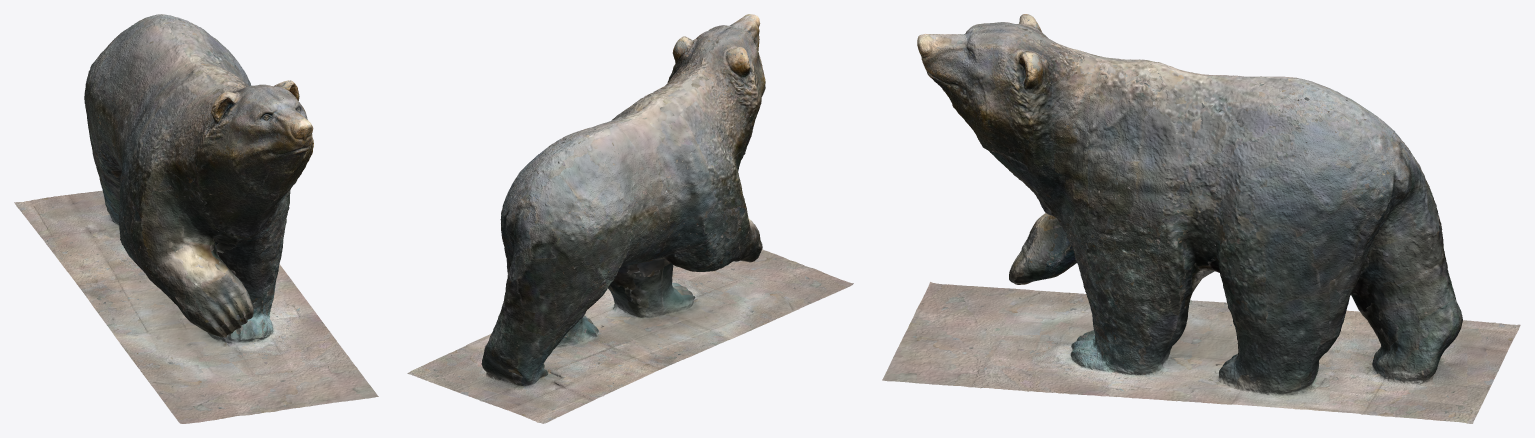
The model's file is poly-opti.glb.
The picture shows the model from 3 angles, left to right: view 1: azimuth 30°, elevation 25°; view 2: azimuth 150°, elevation 25°; view 3: azimuth 270°, elevation 25°; orthographic projection. The views are drawn at different scales.
Size of the model in its own units: 1.67 by 1.67 by 3.01.
2 materials, 2 textured.
